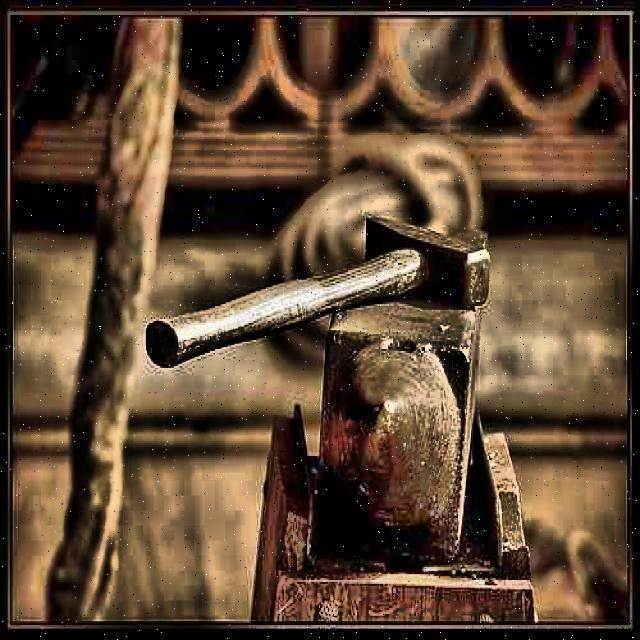hammer: (145, 214, 492, 371)
